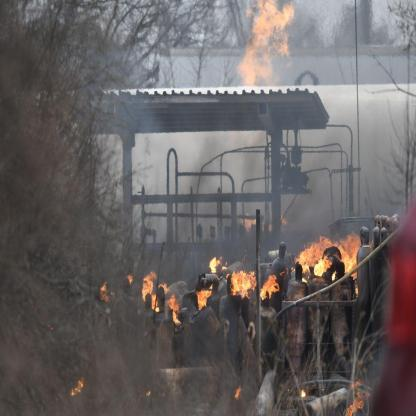fire: (234, 2, 298, 87), (295, 231, 363, 299), (342, 376, 374, 416), (231, 269, 257, 300), (141, 268, 158, 313), (259, 274, 281, 300), (195, 288, 215, 311), (97, 279, 114, 304), (168, 290, 180, 325), (68, 376, 86, 398), (208, 254, 223, 277), (240, 213, 257, 230), (233, 382, 242, 402), (300, 387, 307, 399), (281, 212, 287, 226), (144, 390, 152, 398), (268, 223, 274, 232), (262, 219, 264, 232)
